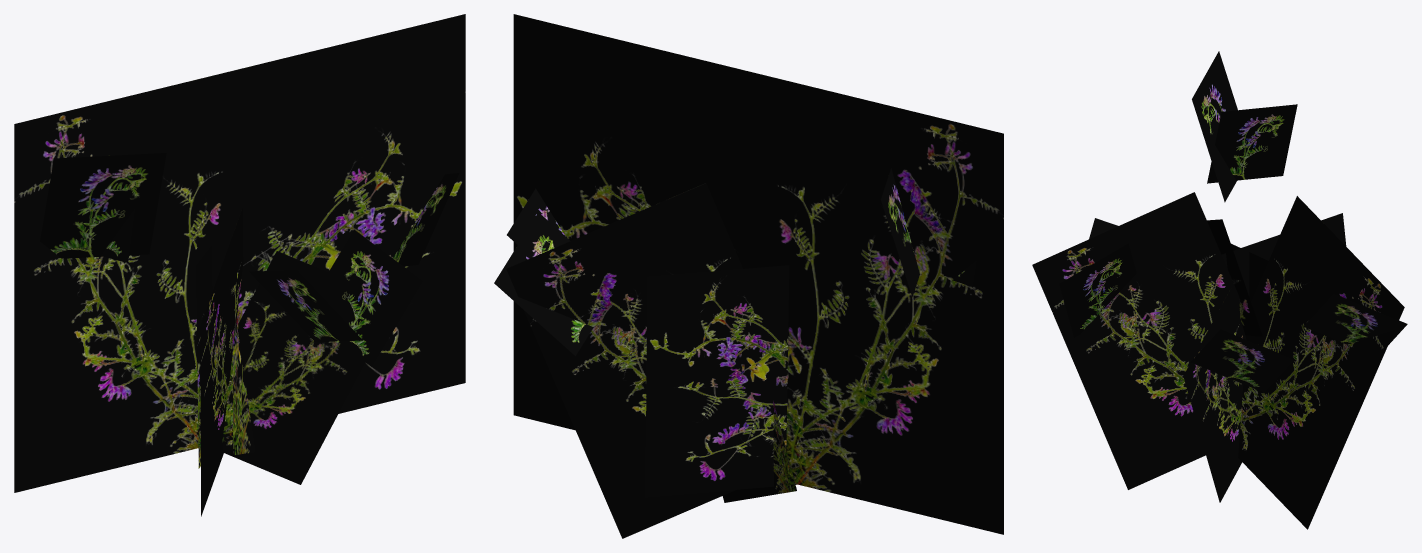
File: 20_vicia_cracca_big_001.fbx
3 renders of one model, left to right at view 1: azimuth 30°, elevation 25°; view 2: azimuth 150°, elevation 25°; view 3: azimuth 270°, elevation 25°, orthographic. The views are drawn at different scales.
Parts seen in each view (by area): view 1: 20_vicia_cracca_big.001; view 2: 20_vicia_cracca_big.001; view 3: 20_vicia_cracca_big.001.
Boxes of the visible parts, left/top/right/bottom form: 20_vicia_cracca_big.001: left=14, top=14, right=465, bottom=516; 20_vicia_cracca_big.001: left=494, top=14, right=1003, bottom=538; 20_vicia_cracca_big.001: left=1032, top=51, right=1407, bottom=529.
Size of the model in its own units: 0.2438 by 0.2193 by 0.1973.
